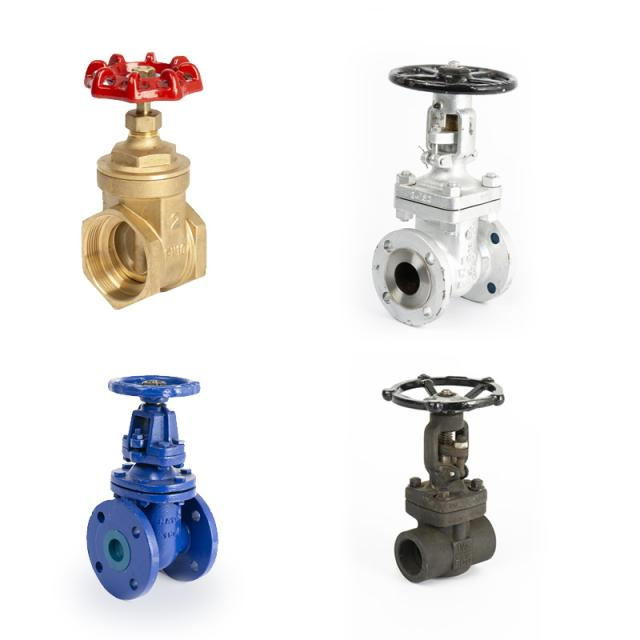Wheel Handle Valve Threaded: (76, 45, 212, 130), (366, 52, 534, 107), (374, 367, 516, 430), (82, 368, 226, 423)
